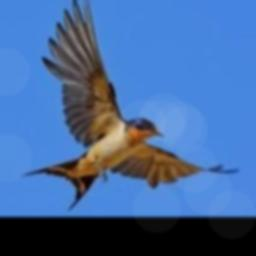Swallow: (18, 0, 238, 211)
